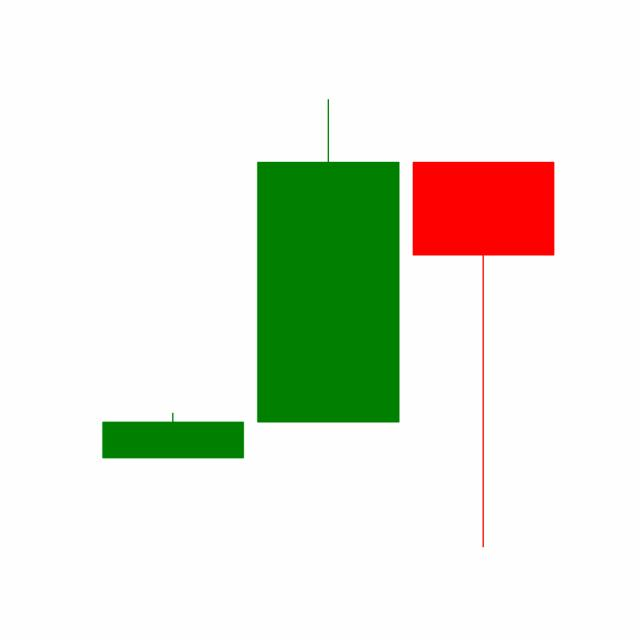Hammer: (405, 158, 561, 552)
